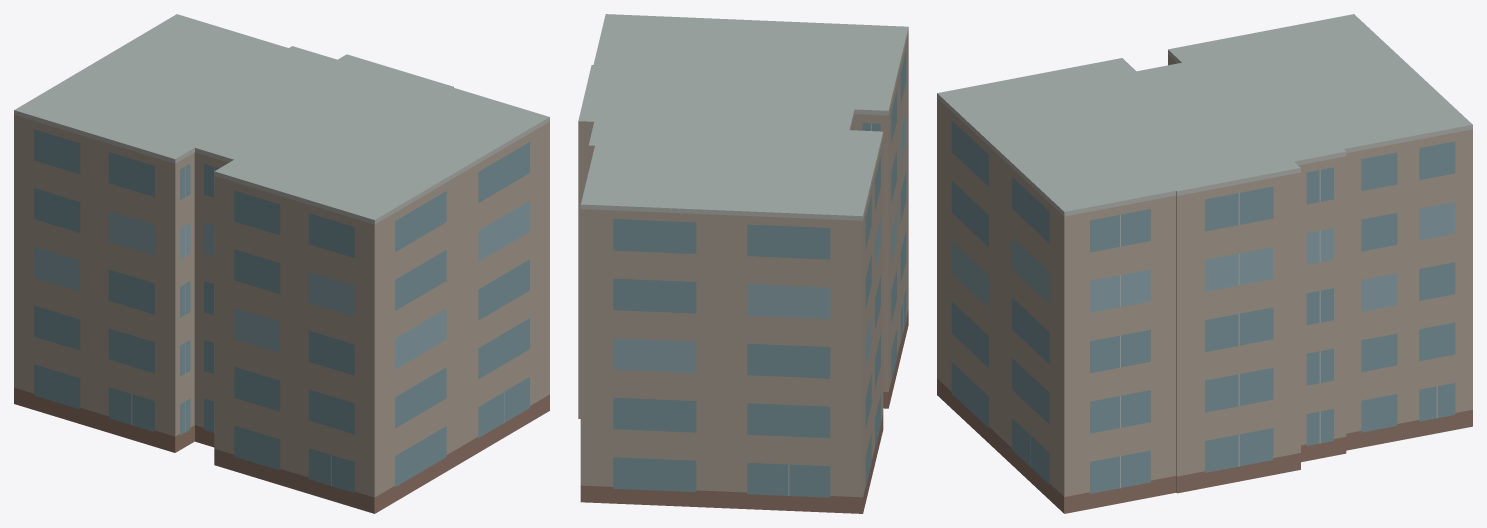
The model's file is survey-upis-32568049.glb.
The picture shows the model from 3 angles, left to right: view 1: azimuth 30°, elevation 25°; view 2: azimuth 150°, elevation 25°; view 3: azimuth 270°, elevation 25°; orthographic projection. The views are drawn at different scales.
Visible parts, largest first — view 1: survey-upis-32568049.tmp; view 2: survey-upis-32568049.tmp; view 3: survey-upis-32568049.tmp.
Part boxes in pixels (x1,y1,x2,y2): survey-upis-32568049.tmp: [14, 14, 549, 513]; survey-upis-32568049.tmp: [578, 14, 908, 513]; survey-upis-32568049.tmp: [937, 14, 1472, 513].
Bounding box in the file's own units: 22.23 × 15.8 × 25.42.
